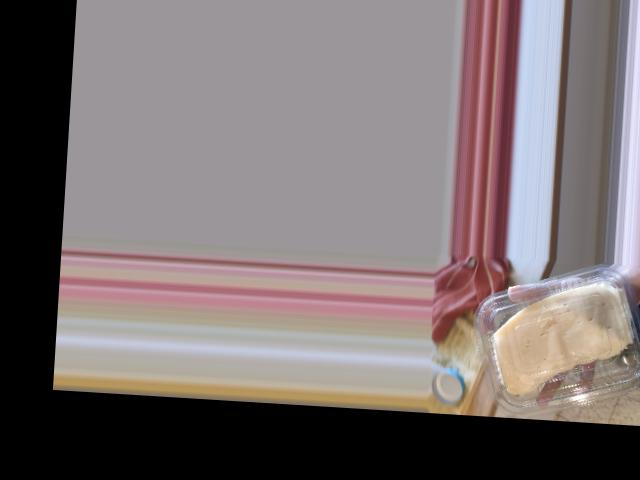cheese: (467, 266, 640, 416)
